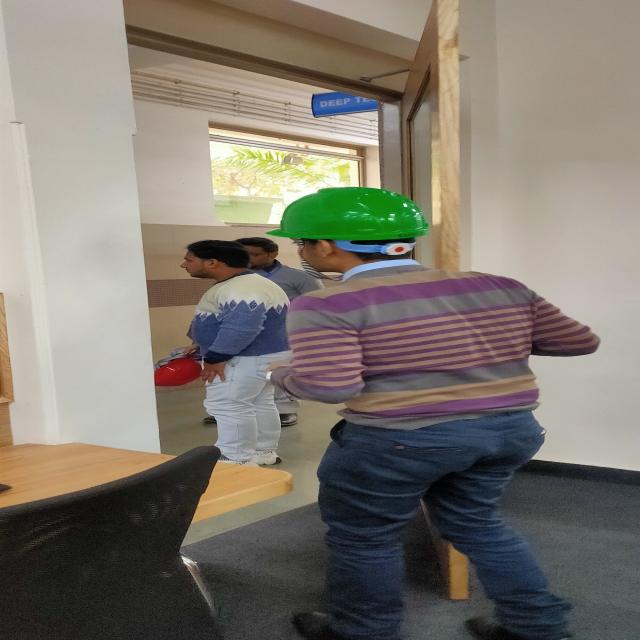no jacket: (271, 185, 590, 640)
unsafe: (182, 241, 289, 464), (232, 237, 328, 299)
